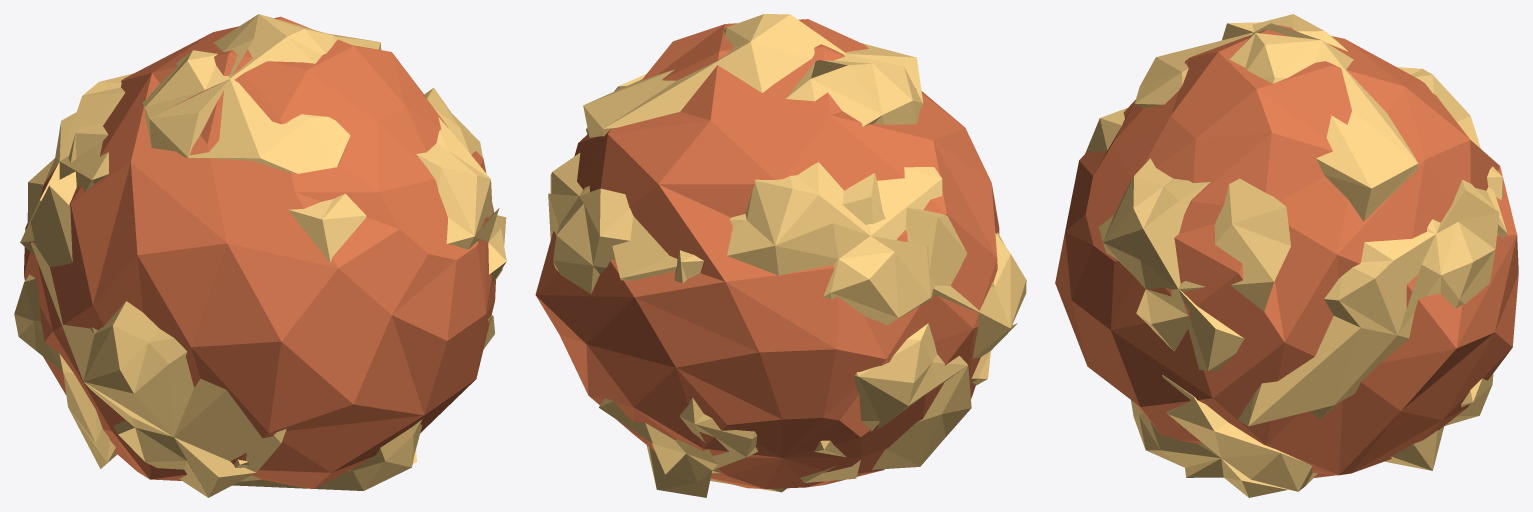
File: mars.glb
The picture shows the model from 3 angles, left to right: view 1: azimuth 30°, elevation 25°; view 2: azimuth 150°, elevation 25°; view 3: azimuth 270°, elevation 25°; orthographic projection. The views are drawn at different scales.
Visible parts, largest first — view 1: Node; view 2: Node; view 3: Node.
Part boxes in pixels (x1=…): Node: x1=14, y1=14, x2=506, y2=497; Node: x1=535, y1=14, x2=1026, y2=497; Node: x1=1055, y1=14, x2=1518, y2=497.
Size of the model in its own units: 0.2737 by 0.2856 by 0.2748.
